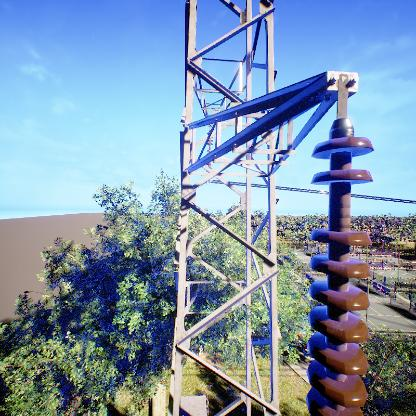insulator: (306, 135, 376, 416)
